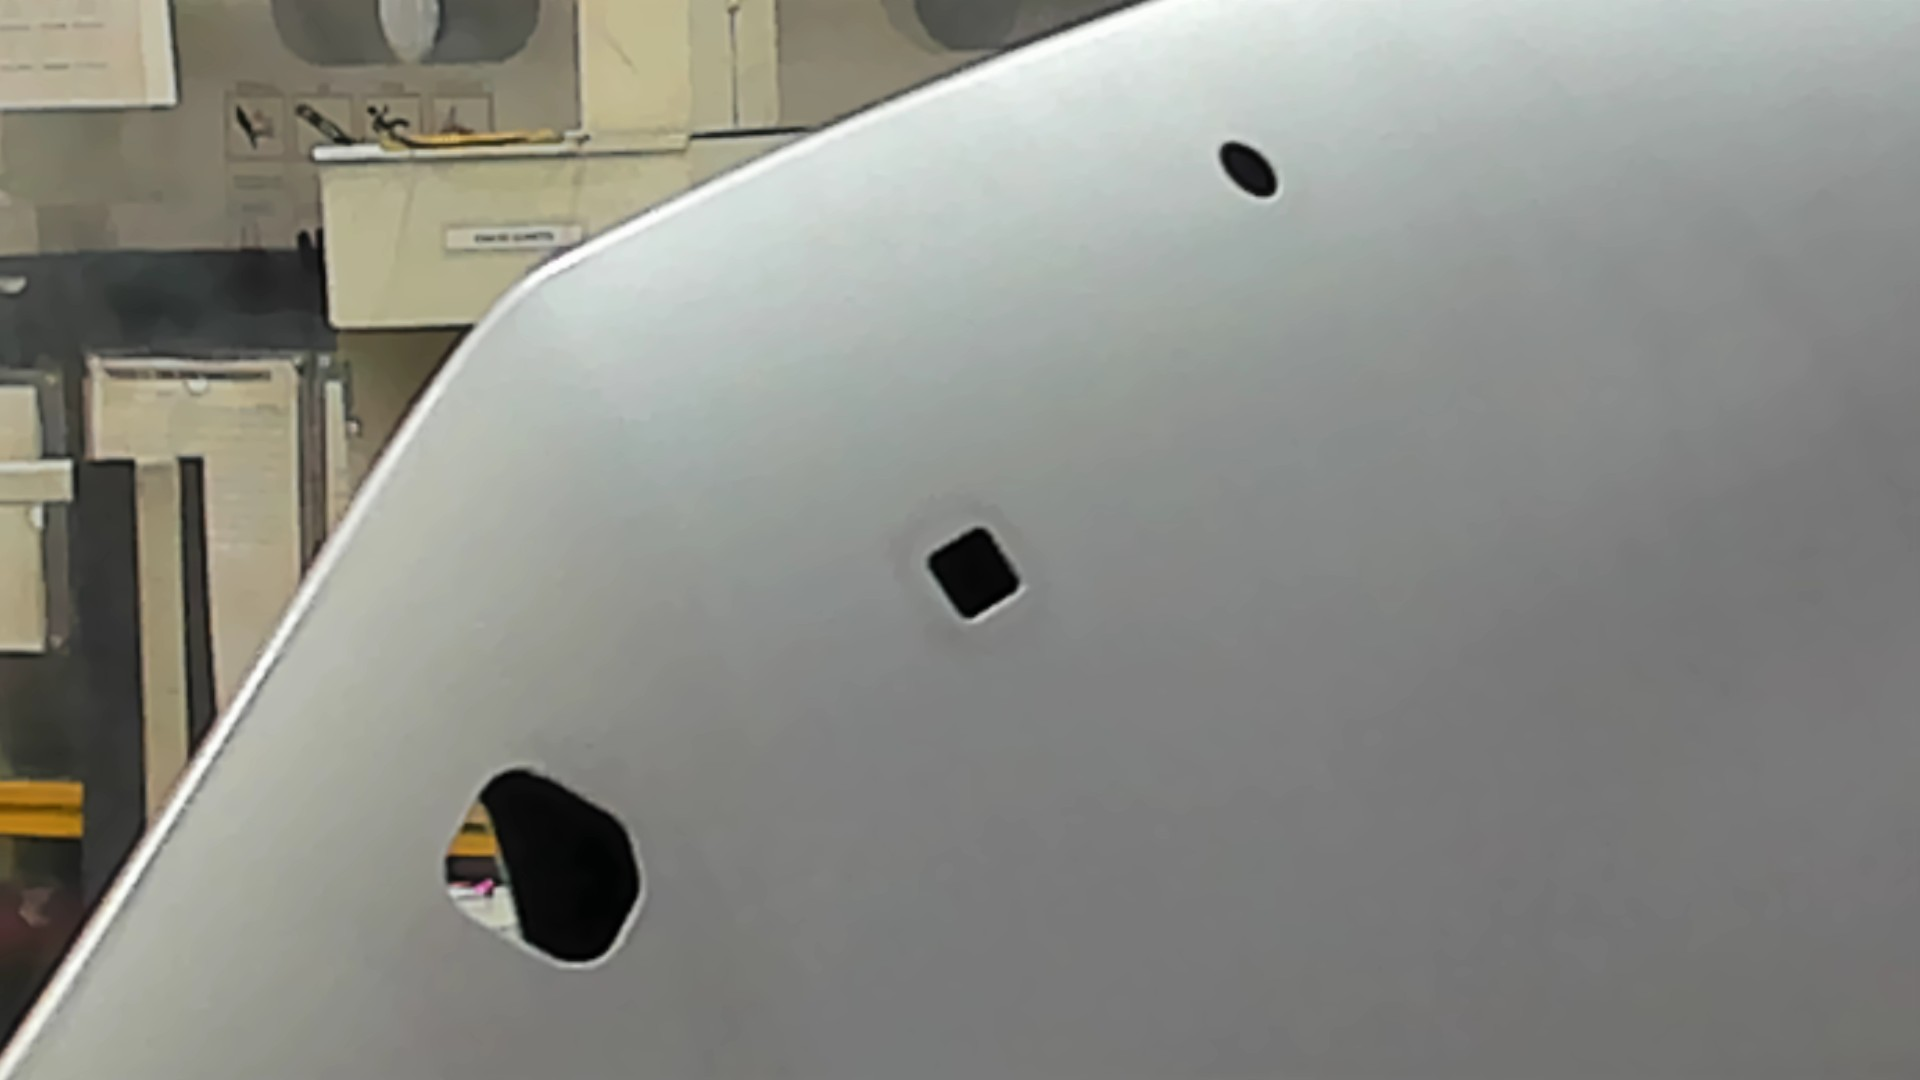Agujero: (924, 524, 1026, 626), (1218, 137, 1279, 200)
Agujerote: (442, 767, 647, 975)
